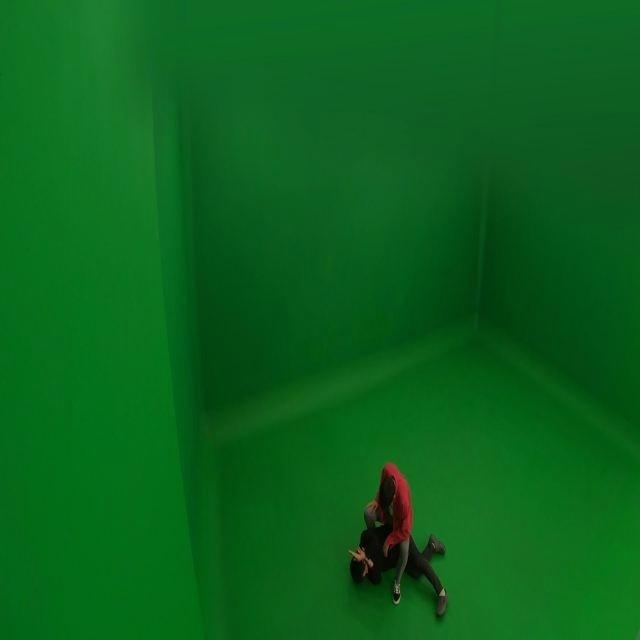fight: (344, 459, 450, 622)
